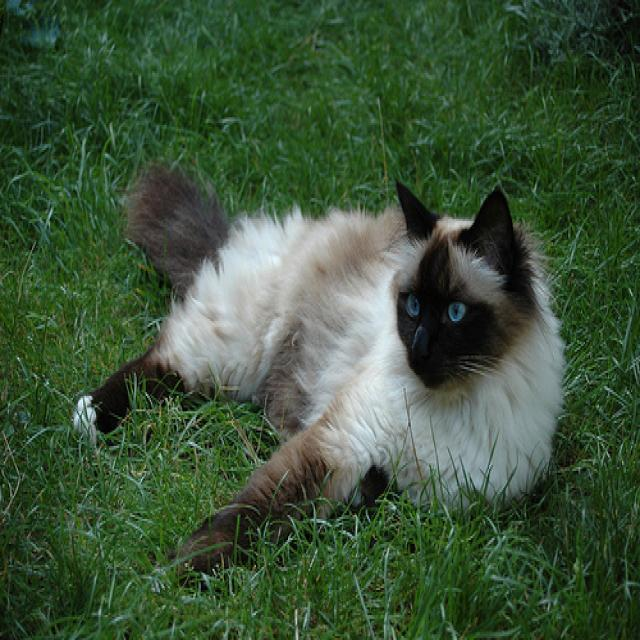Birman: (393, 175, 518, 386)
